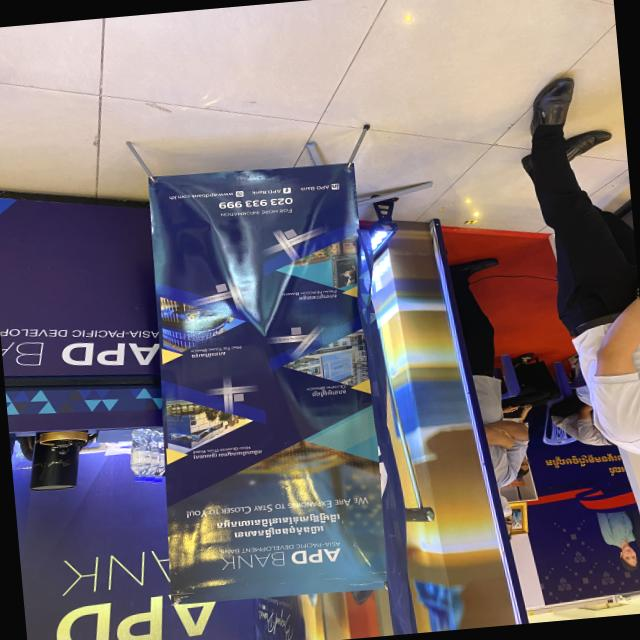1: (188, 447, 267, 460)
333: (215, 196, 295, 213)
Yolov11kh: (212, 511, 342, 531), (231, 523, 329, 540), (543, 451, 619, 470), (295, 291, 339, 301), (186, 350, 228, 359), (310, 387, 346, 397), (605, 465, 627, 477)
